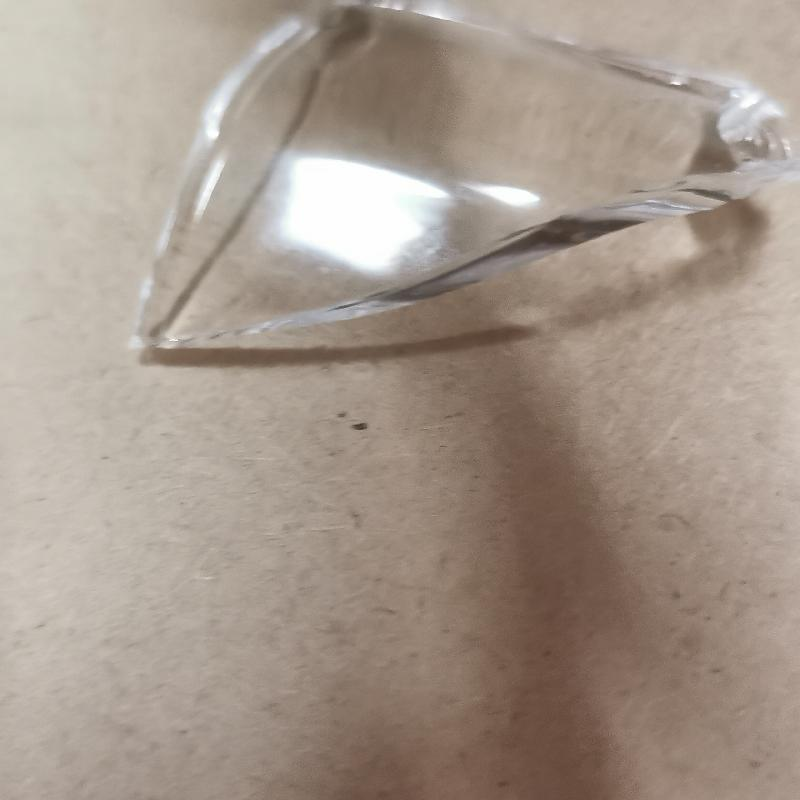glass: (125, 5, 796, 353)
